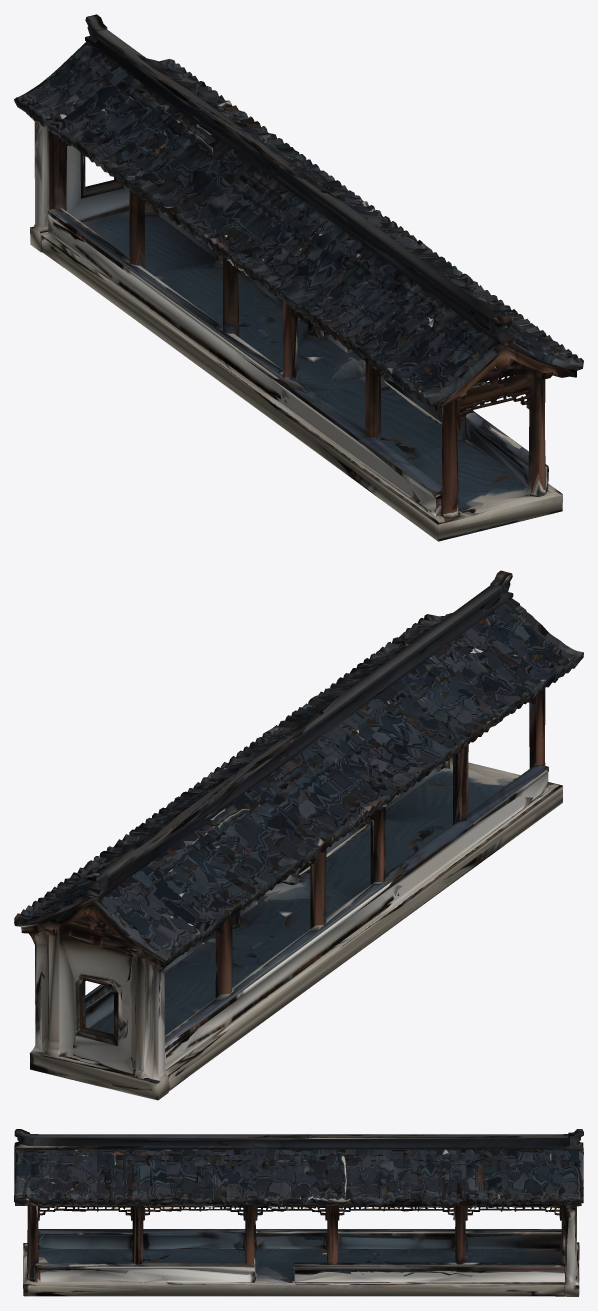
File: corridor-compressed.glb
3 views of the same model, one above another, from view 1: azimuth 30°, elevation 25°; view 2: azimuth 150°, elevation 25°; view 3: azimuth 270°, elevation 25° (orthographic). The views are drawn at different scales.
Visible parts, largest first — view 1: node_0; view 2: node_0; view 3: node_0.
Part boxes in pixels (x1,y1,x2,y2): node_0: [14, 14, 583, 541]; node_0: [14, 570, 583, 1100]; node_0: [14, 1129, 583, 1296].
Bounding box in the file's own units: 1.92 × 2.49 × 8.88.
1 material, 1 textured.
